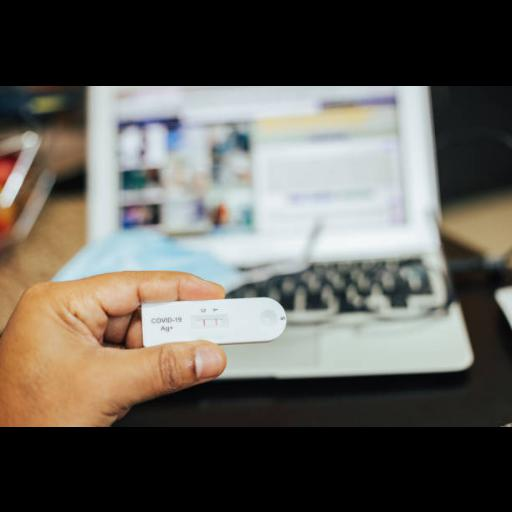Pos: (142, 295, 288, 347)
